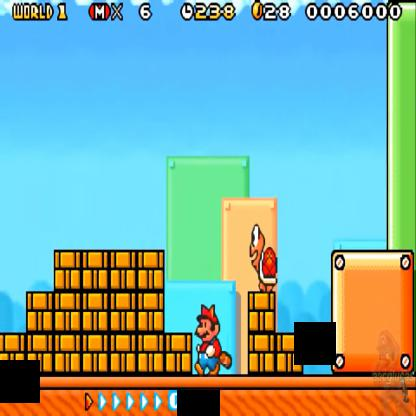Mario: (193, 304, 234, 379)
koopa: (247, 220, 278, 299)
moneda: (250, 1, 263, 28)
